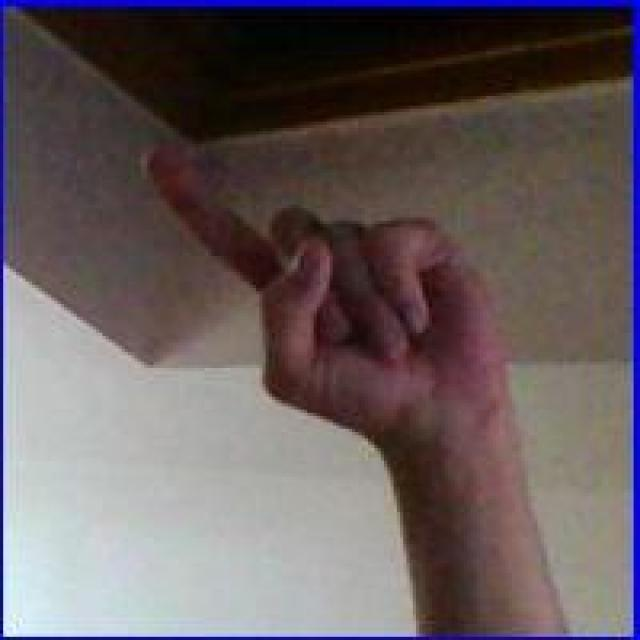Z: (141, 137, 496, 426)
